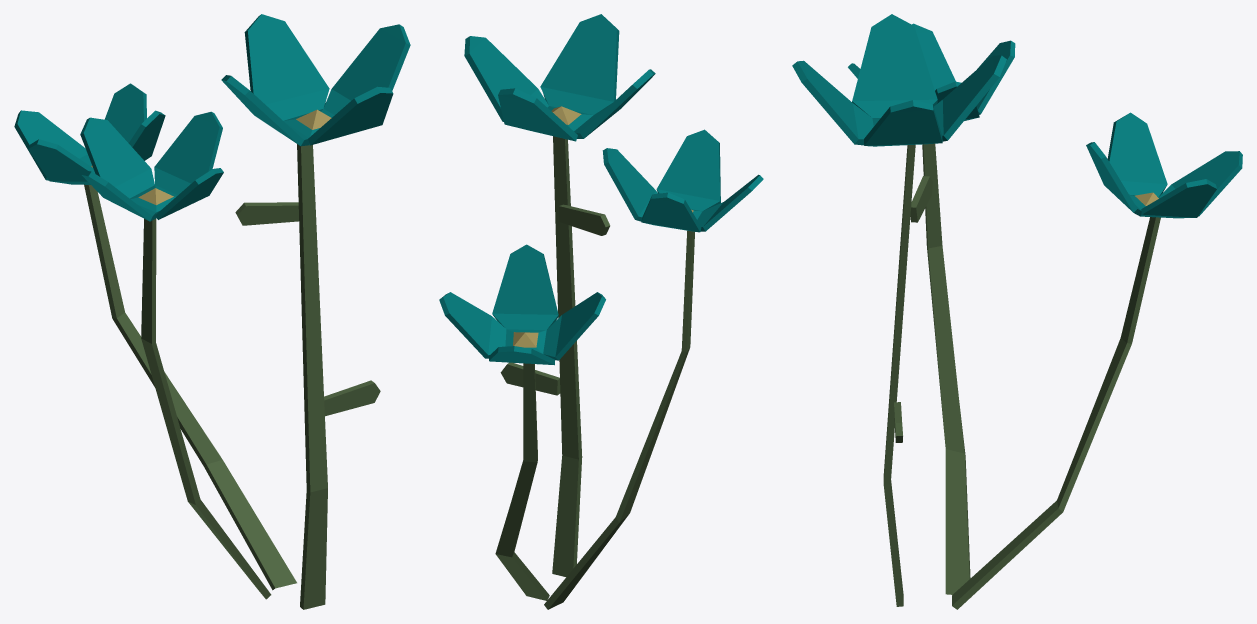
Rendered from flowers.glb.
The picture shows the model from 3 angles, left to right: view 1: azimuth 30°, elevation 25°; view 2: azimuth 150°, elevation 25°; view 3: azimuth 270°, elevation 25°; orthographic projection. The views are drawn at different scales.
Parts seen in each view (by area): view 1: Flowers; view 2: Flowers; view 3: Flowers.
Part boxes in pixels (x1,y1,x2,y2): Flowers: (14,14,410,609); Flowers: (439,14,763,609); Flowers: (792,14,1242,609).
Bounding box in the file's own units: 0.4895 × 0.8289 × 0.6137.
